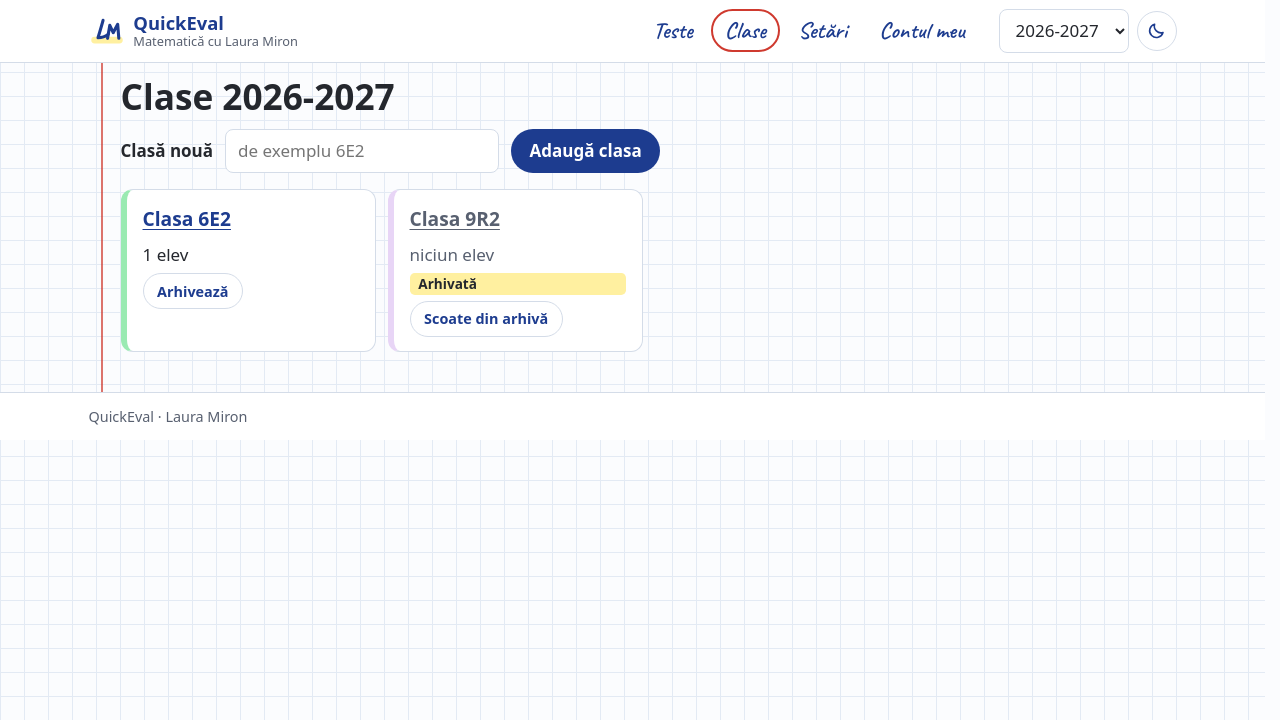
Test: ClassesPage › adds a class in the selected school year
The width and height of the screenshot is (1280, 720).
Type "7e2" into the field labelled "Clasă nouă". click: (362, 151)
box: [225,129,499,173]
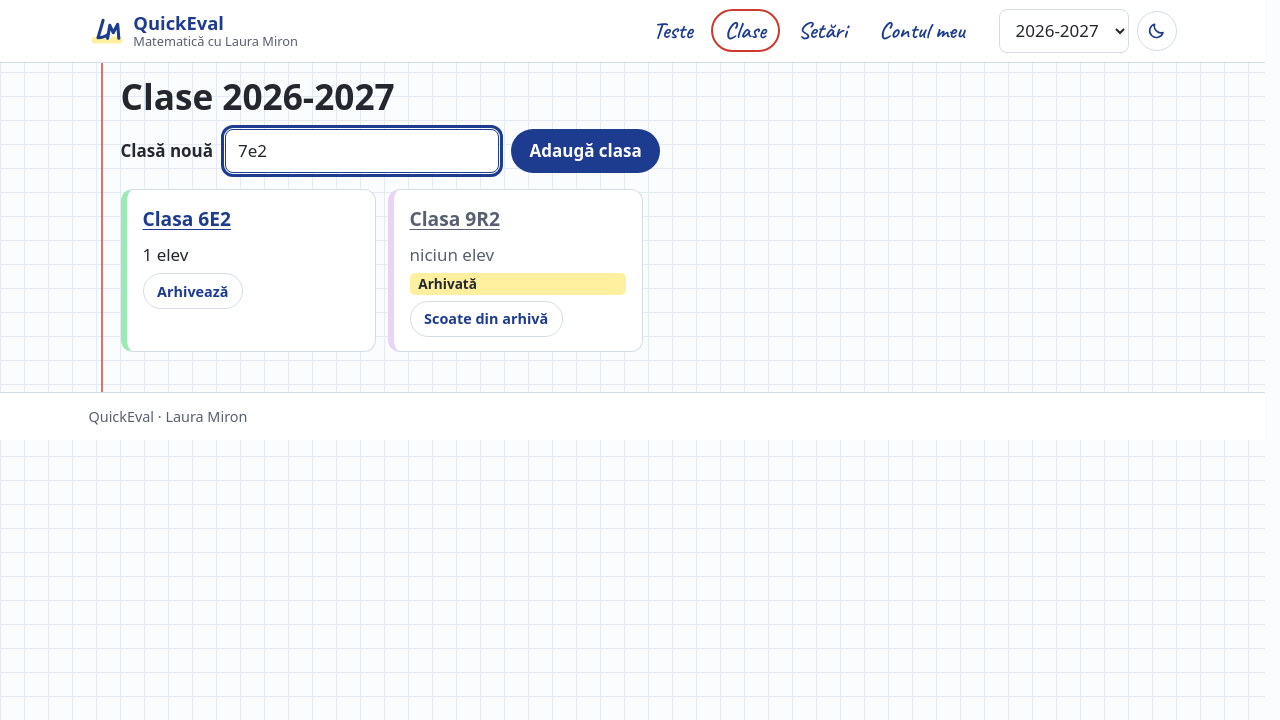
Click the button "Adaugă clasa". click: (586, 151)
box: [511,129,660,173]
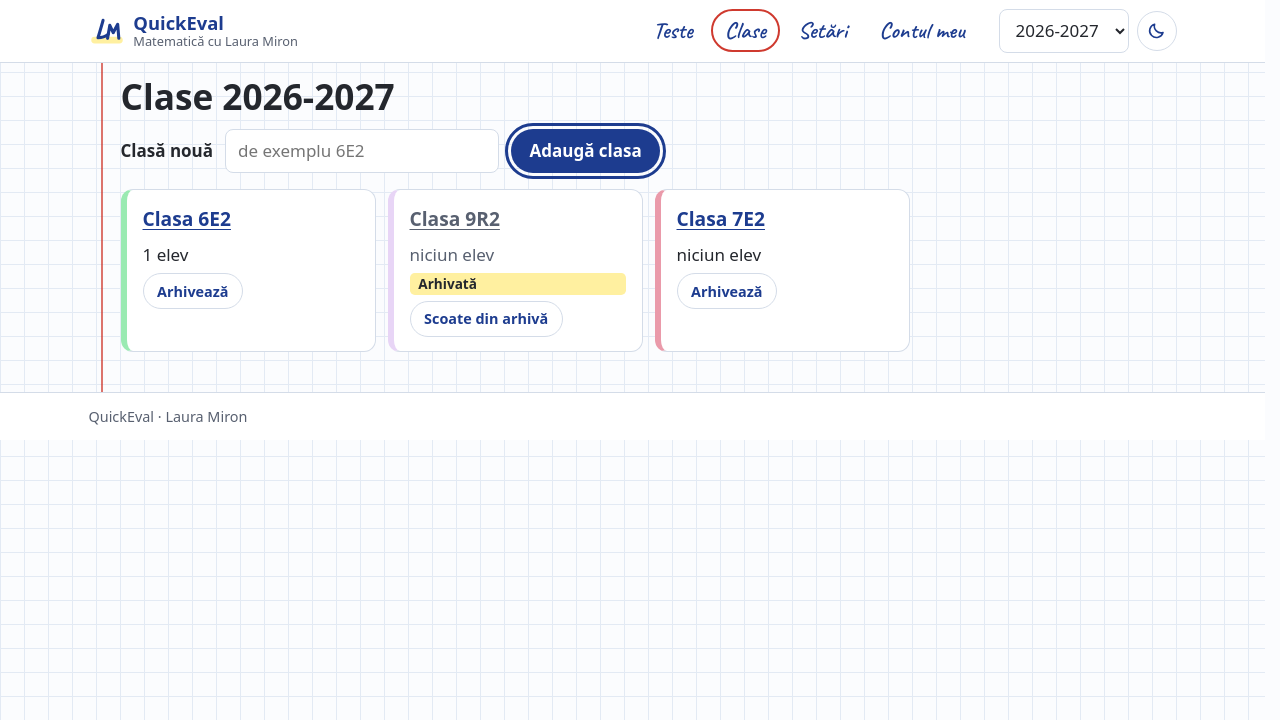
Now the link "Clasa 7E2" is shown, box [676,205,765,232]
Now the field labelled "Clasă nouă" is empty, box [225,129,499,173]
